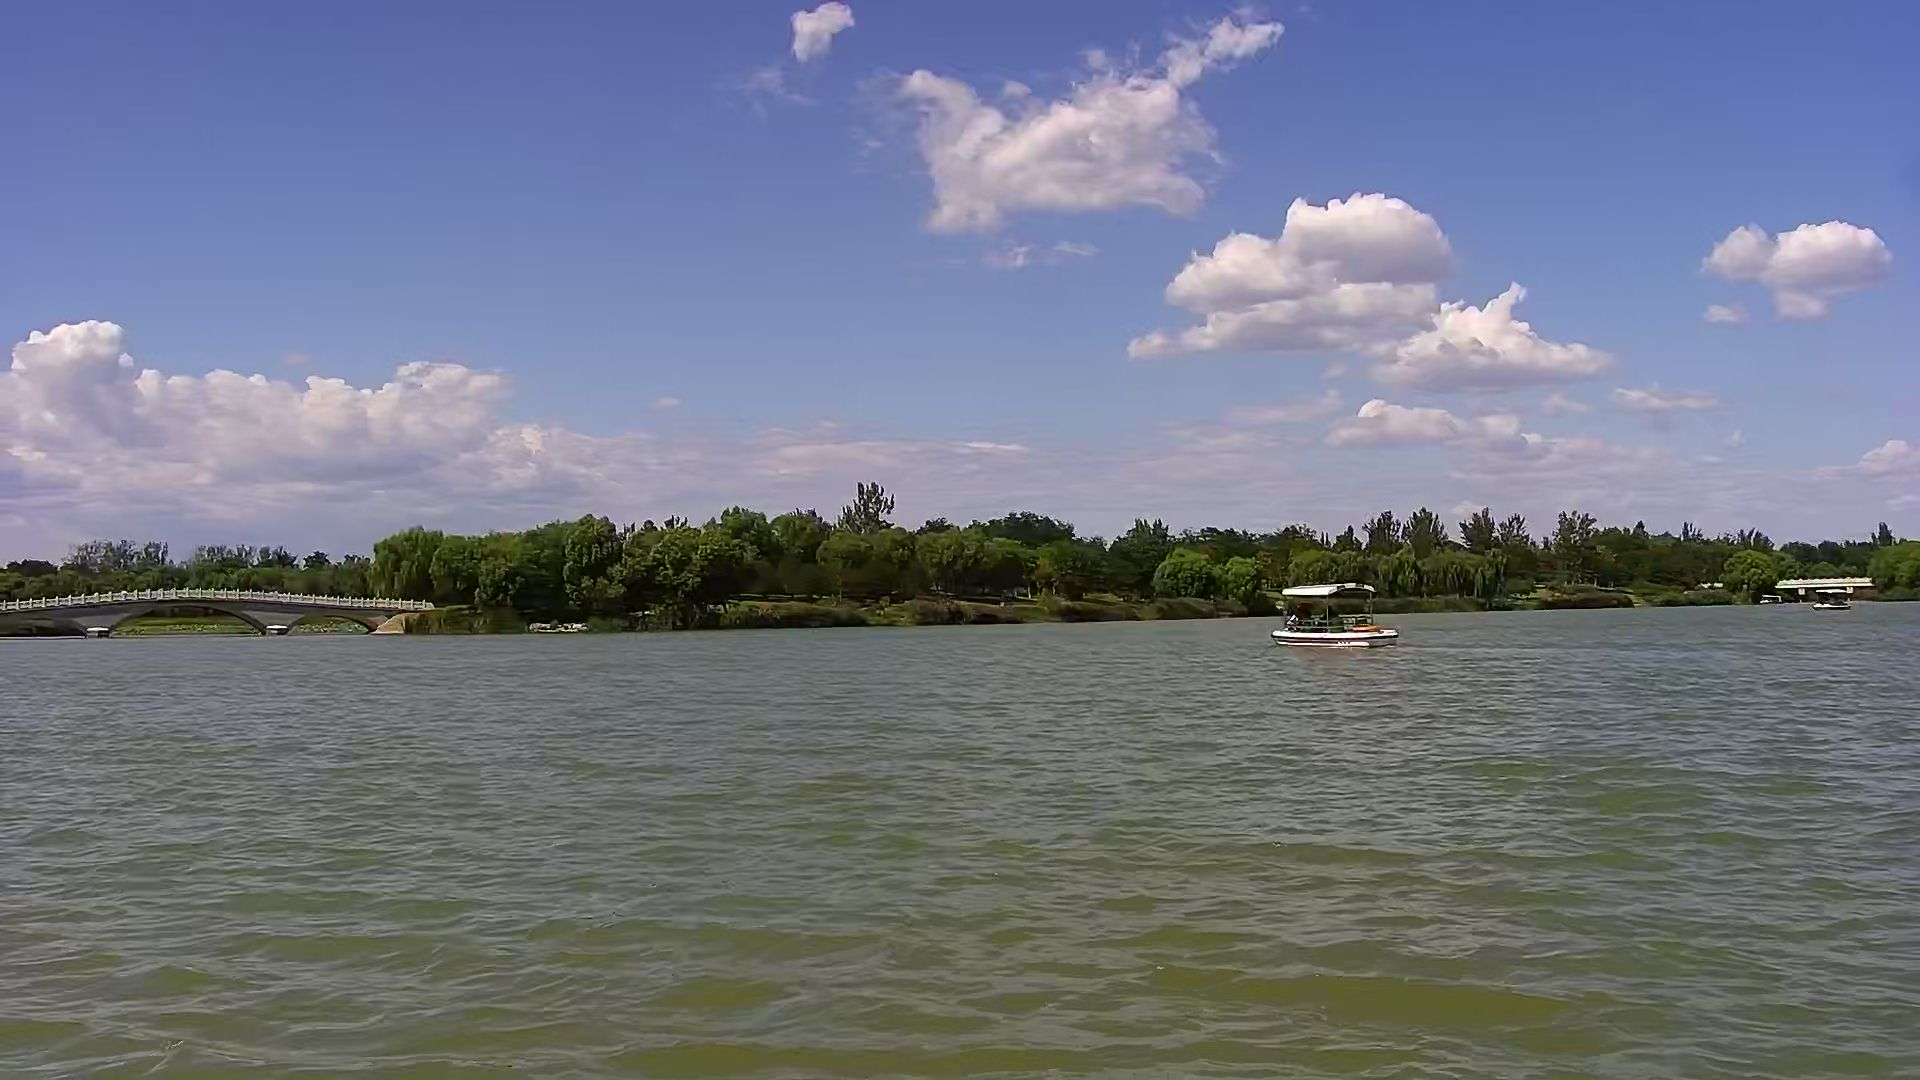boat: (1273, 582, 1396, 646)
bridge: (1, 589, 404, 642), (1775, 576, 1871, 593)
